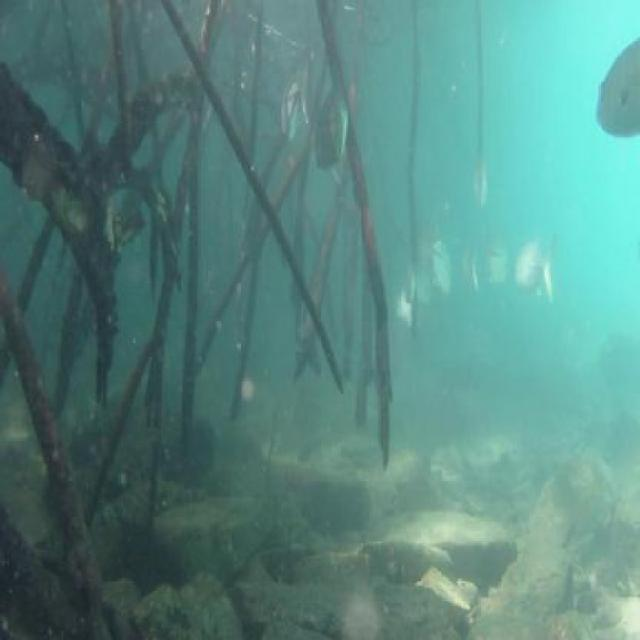Caranx_sexfasciatus_juvenile: (592, 32, 640, 139), (311, 85, 355, 182), (512, 225, 556, 310), (276, 77, 312, 148), (422, 232, 453, 302), (452, 234, 481, 306), (468, 156, 492, 215), (486, 236, 506, 295)
